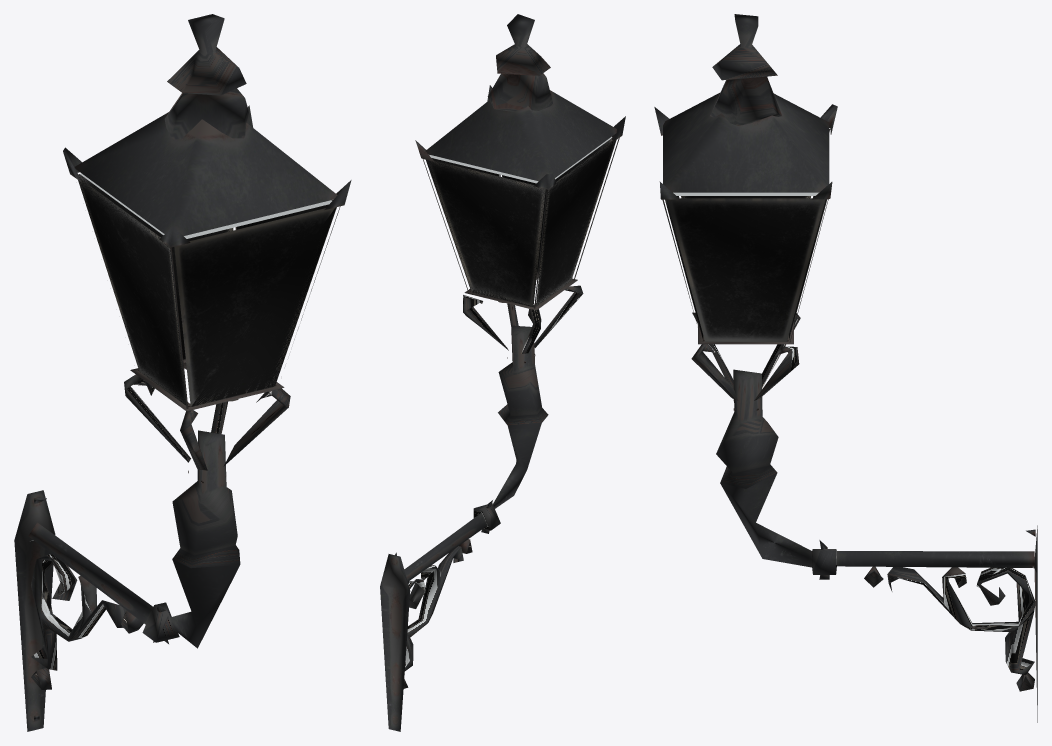
Rendered from street_lamp_02_opt.gltf.
3 renders of one model, left to right at view 1: azimuth 30°, elevation 25°; view 2: azimuth 150°, elevation 25°; view 3: azimuth 270°, elevation 25°, orthographic. The views are drawn at different scales.
Visible parts, largest first — view 1: street_lamp_02; view 2: street_lamp_02; view 3: street_lamp_02.
Boxes of the visible parts, x1,y1,x2,y2 form: street_lamp_02: [14, 14, 351, 731]; street_lamp_02: [380, 14, 625, 731]; street_lamp_02: [654, 14, 1037, 722].
Size of the model in its own units: 0.3857 by 1.65 by 0.8067.
2 materials, 2 textured.
